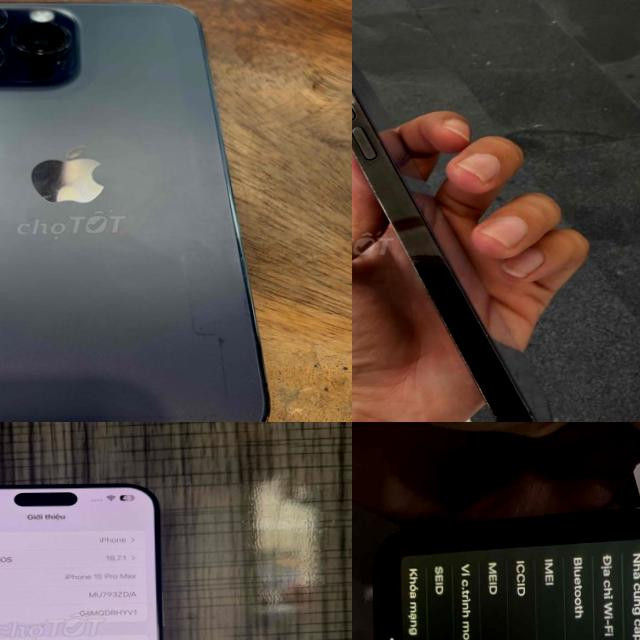gen_14: (0, 0, 284, 422), (352, 0, 583, 422)
gen_15: (0, 458, 188, 640)
gen_x_xs: (373, 509, 640, 640)
scratch: (168, 218, 254, 418)
